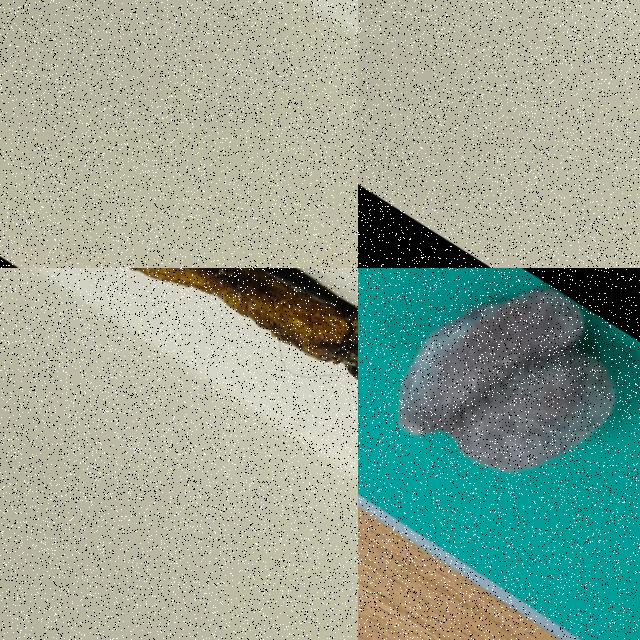Agglomerated_cocoabeans: (358, 268, 639, 596)
Flat_cocoabeans: (39, 268, 357, 498)
